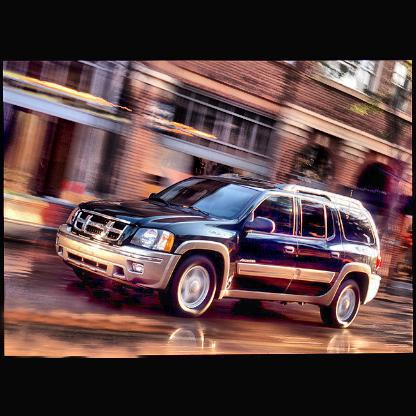Isuzu Ascender SUV 2008: (54, 173, 384, 331)
